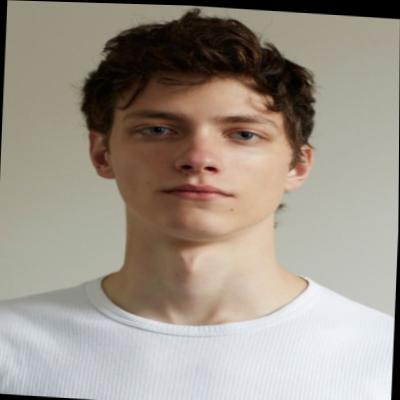netural: (106, 69, 288, 242)
